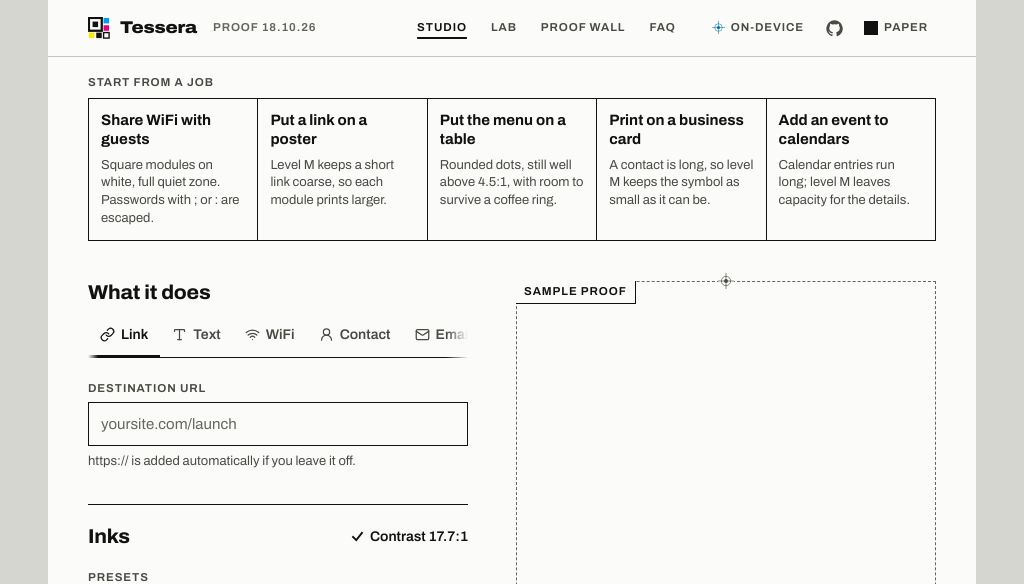
it: App › keeps each tab’s draft when switching away and back
(page scrolled)
Type "example.com" into the field labelled "Destination URL" at [278, 424], box [88,402,468,446]
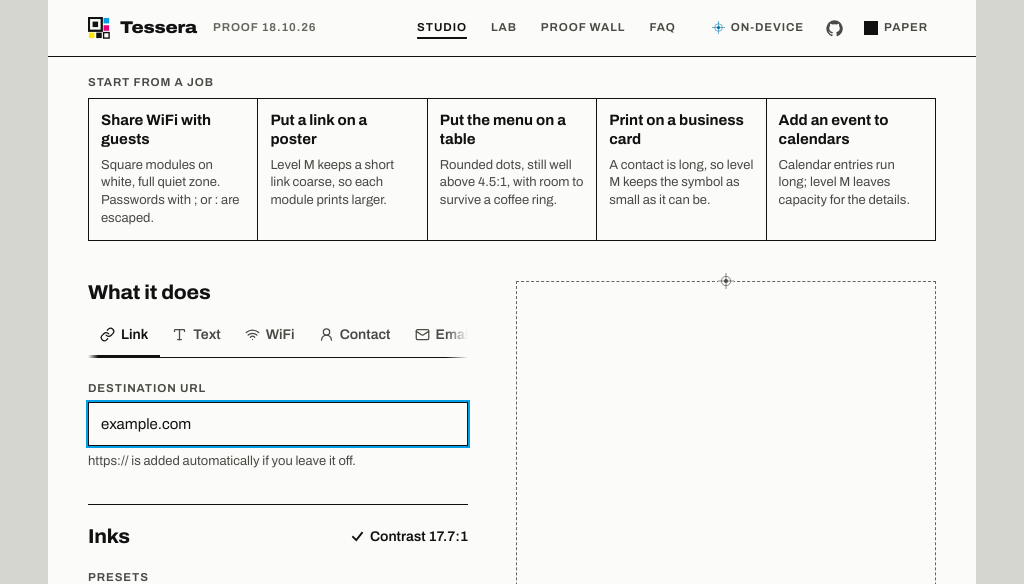
Click the tab "Text" at [196, 337], box [160,316,233,357]
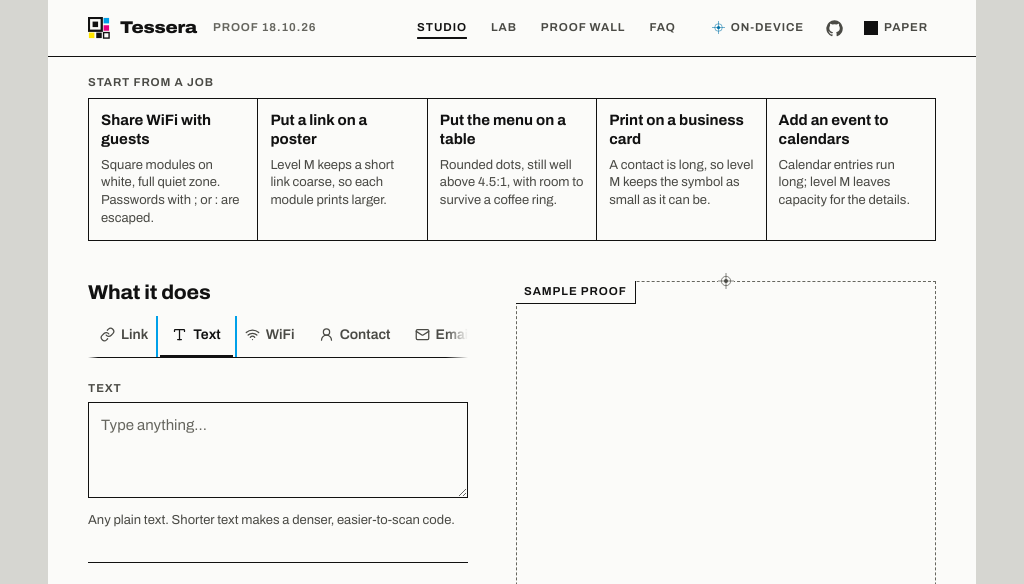
Click the tab "Link" at [124, 337], box [88,316,160,357]
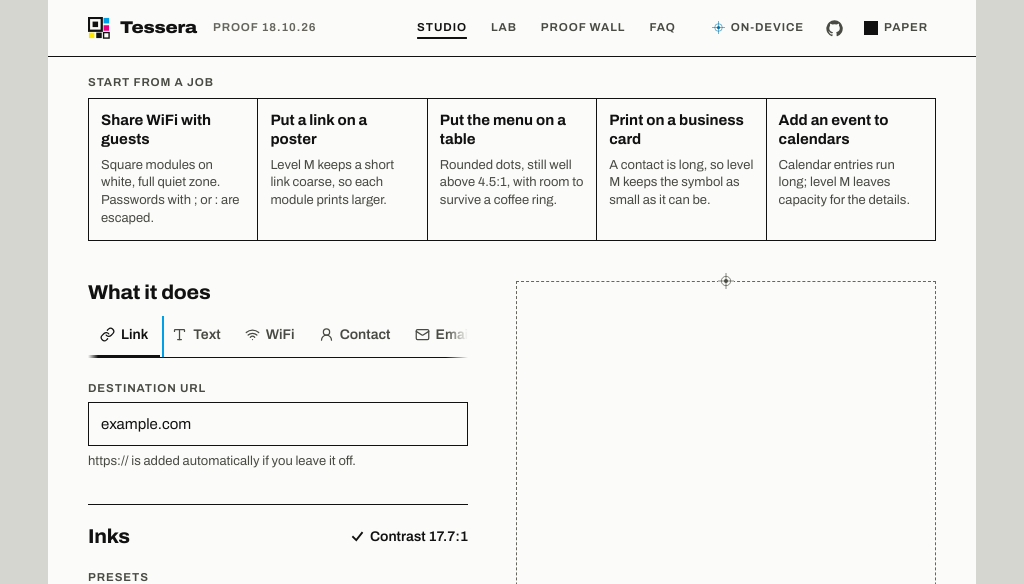
Expected: the field labelled "Destination URL" holds "example.com", [88,402,468,446]
